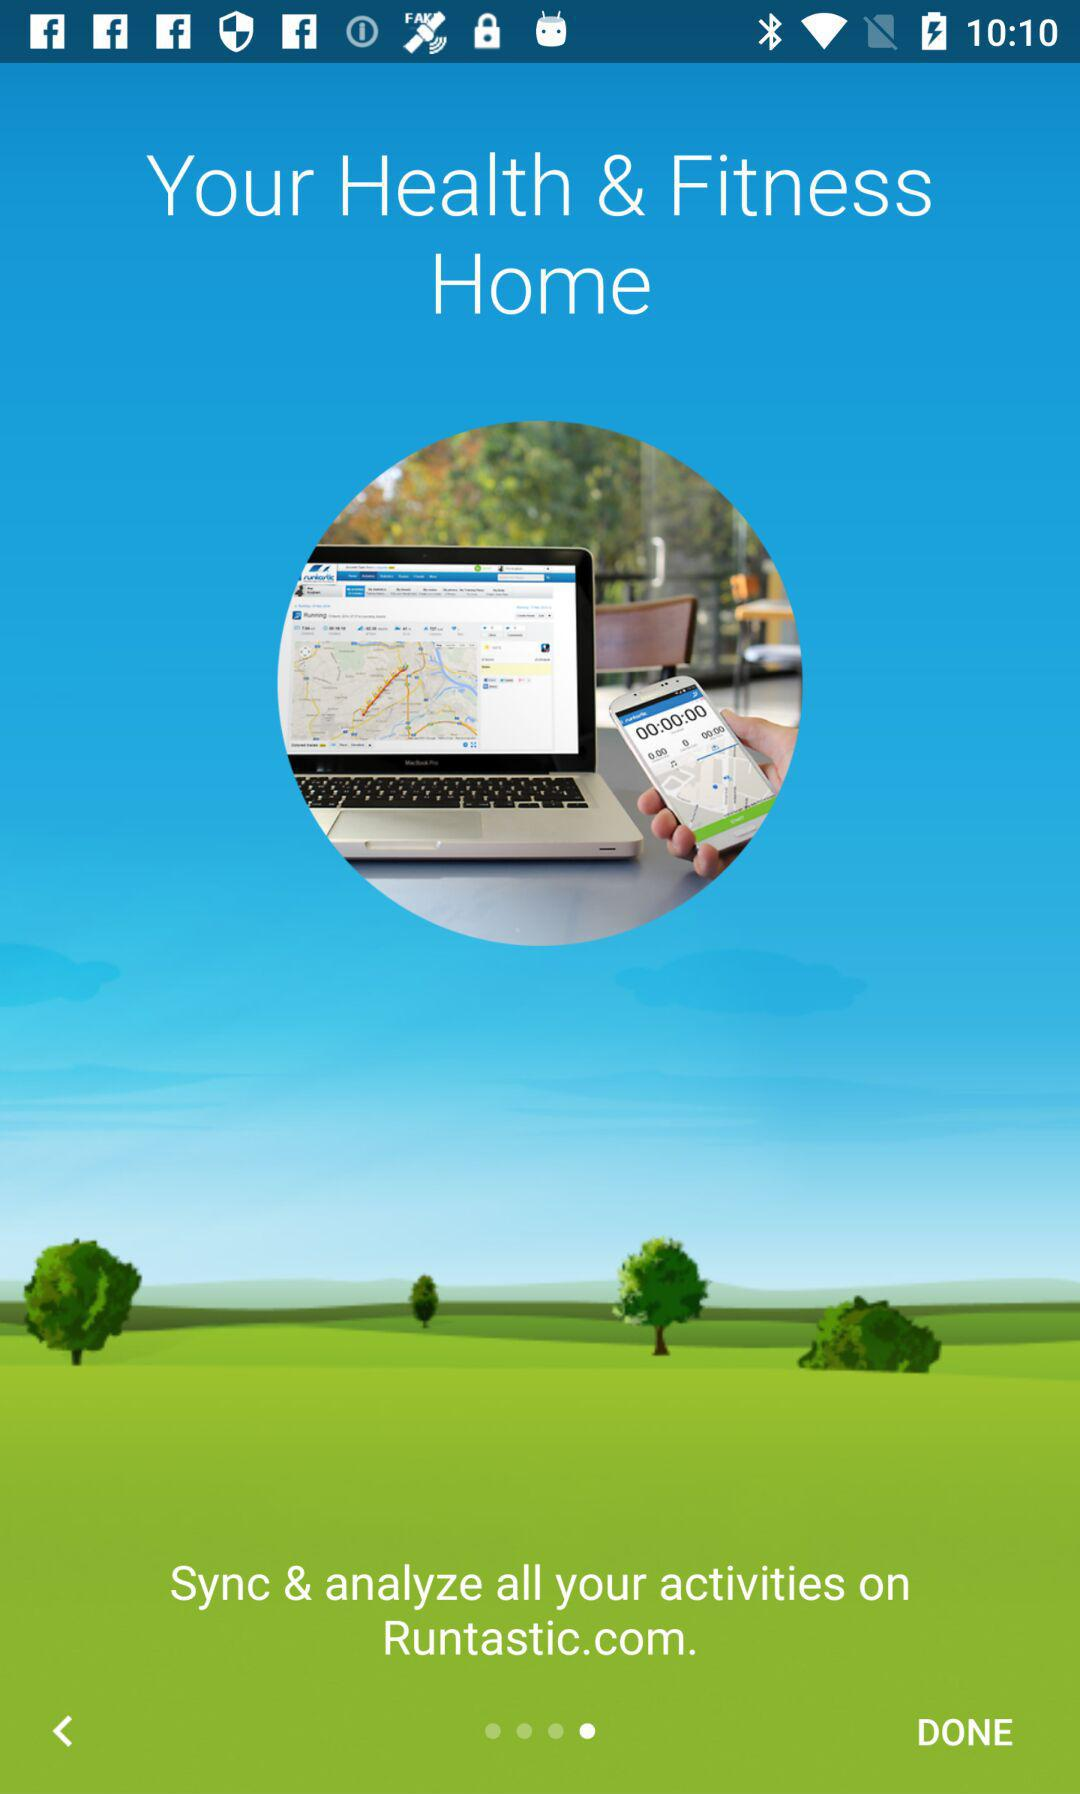BackgroundImage: (1, 65, 1080, 1793)
Icon: (53, 1712, 76, 1747)
Image: (275, 420, 805, 950)
PageIndicator: (484, 1720, 596, 1741)
Text: (147, 151, 933, 317), (168, 1565, 911, 1661), (917, 1717, 1013, 1747)
UpperTaskBar: (1, 1, 1080, 64)
